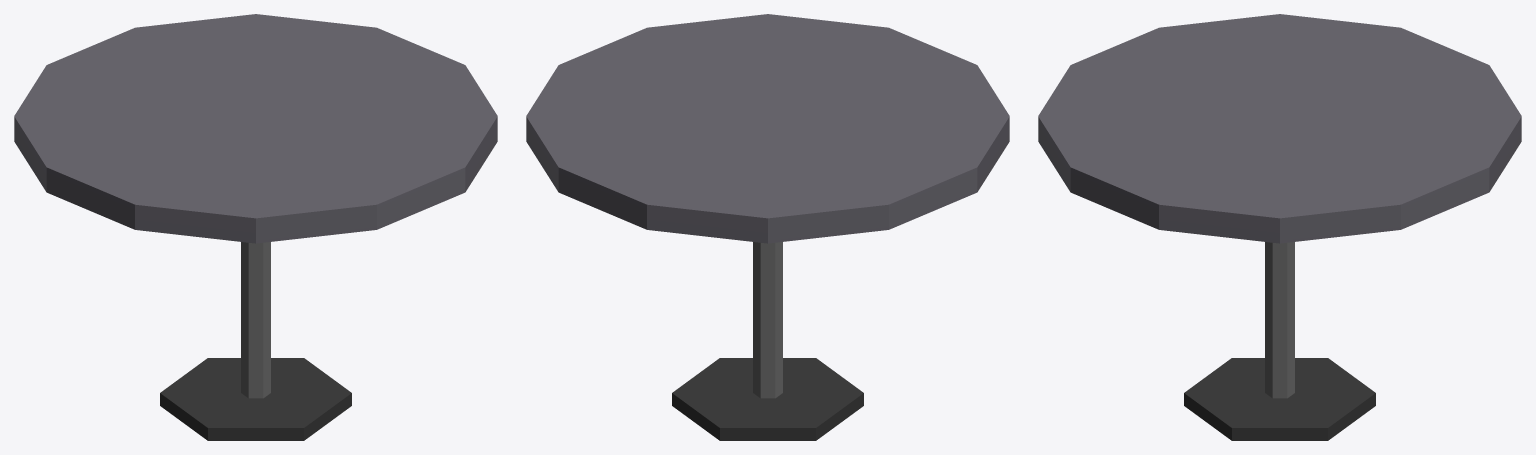
Rendered from Table_01.fbx.
3 views of the same model, side by side, from view 1: azimuth 30°, elevation 25°; view 2: azimuth 150°, elevation 25°; view 3: azimuth 270°, elevation 25° (orthographic).
Parts seen in each view (by area): view 1: Table_01; view 2: Table_01; view 3: Table_01.
Boxes of the visible parts, x1=… form: Table_01: x1=14, y1=14, x2=497, y2=440; Table_01: x1=526, y1=14, x2=1009, y2=440; Table_01: x1=1038, y1=14, x2=1521, y2=440.
Bounding box in the file's own units: 125 × 82.85 × 125.
